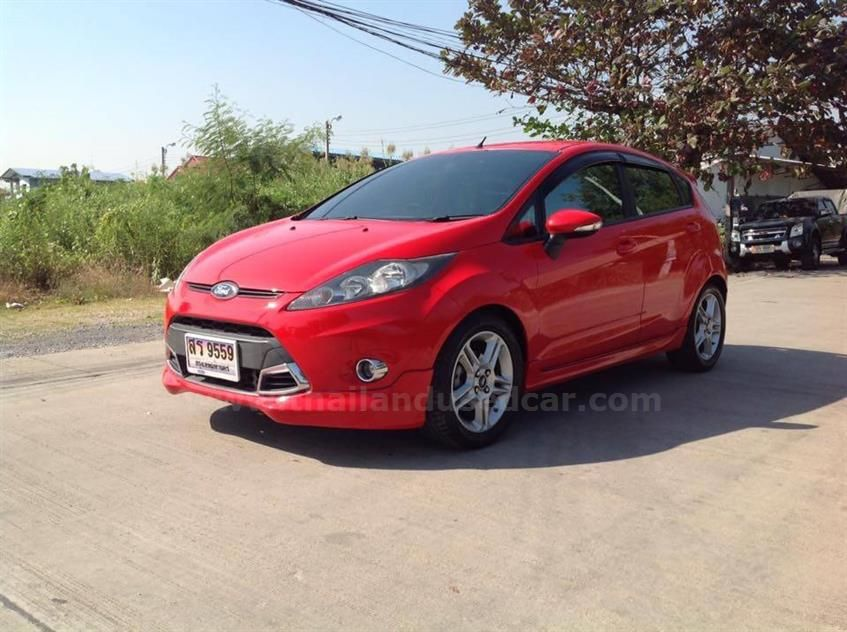sedan: (163, 137, 732, 450)
